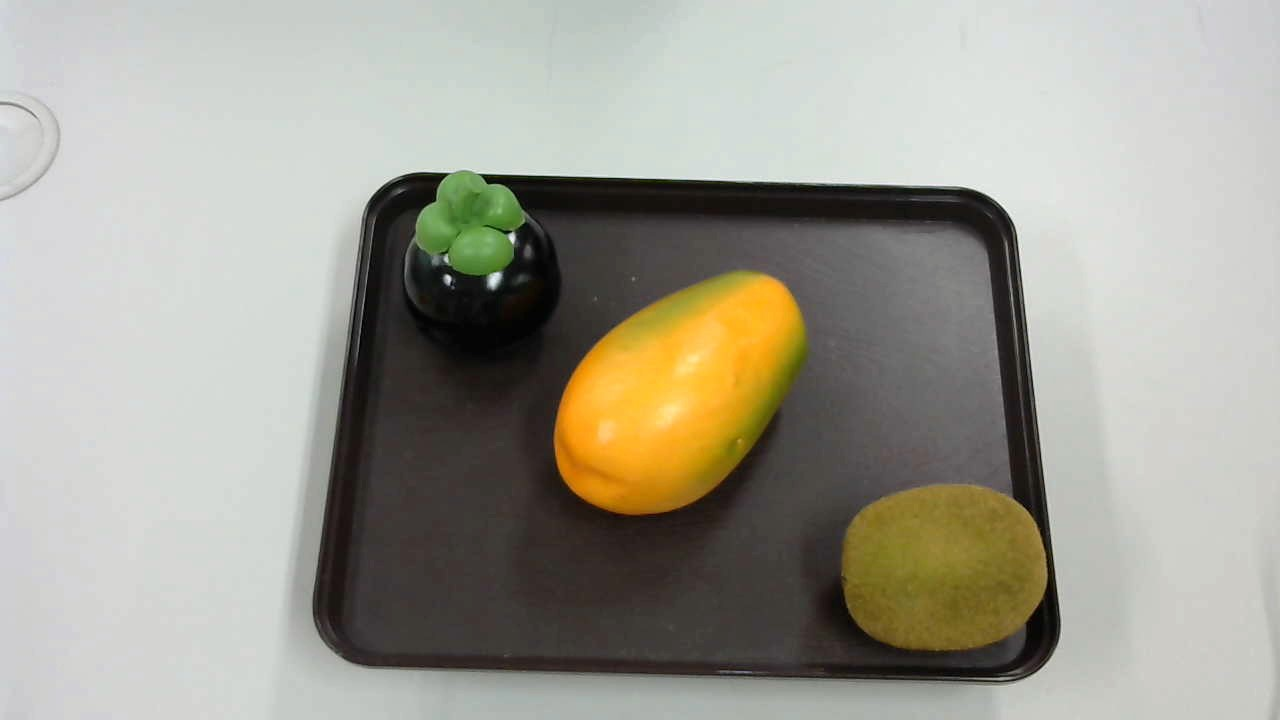kiwi fruit: (830, 480, 1058, 663)
mangosteen: (395, 170, 556, 359)
papya: (549, 266, 816, 519)
